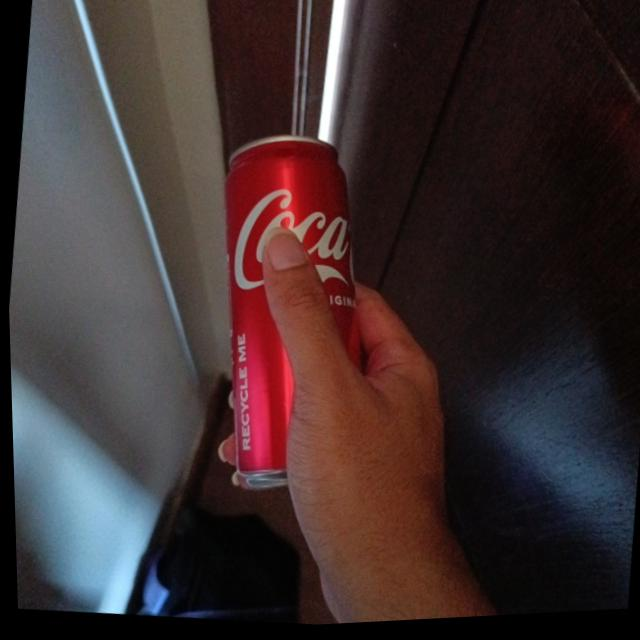coke: (194, 129, 375, 504)
